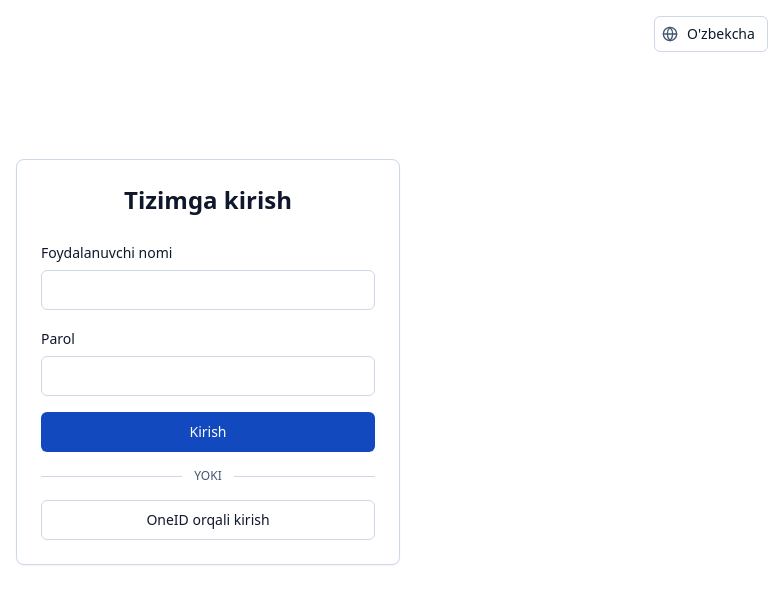
Test: LoginPage › noto'g'ri kirishda xato ko'rsatadi va parol maydonini tozalaydi (Req 1.3)
Type "alice" into the field labelled "Foydalanuvchi nomi".
click(208, 290); type("alice")  # box [41,270,375,310]
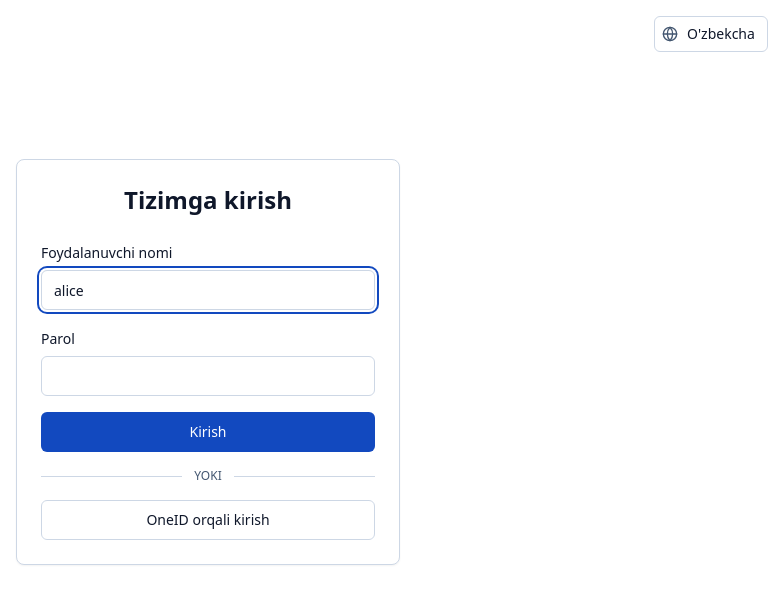
Type "wrong-pass" into the password field labelled "Parol".
click(208, 376); type("wrong-pass")  # box [41,356,375,396]
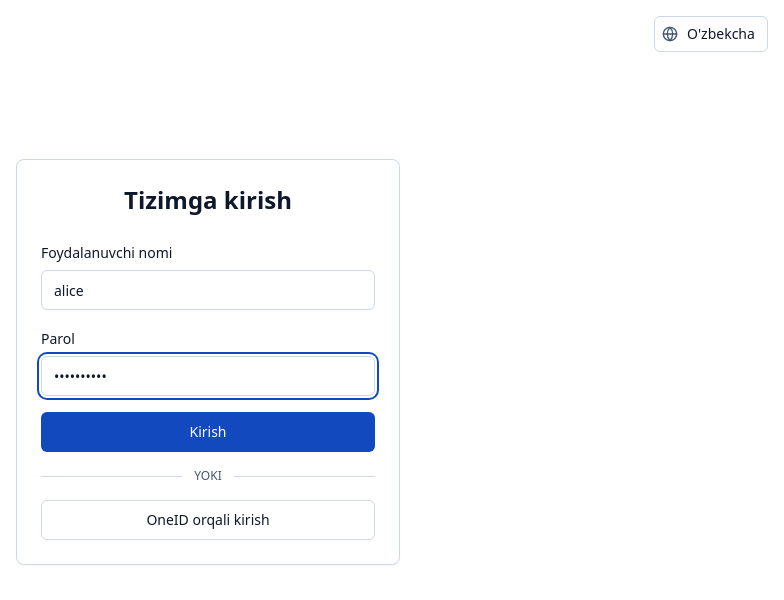
Click the button "Kirish".
click(208, 432)  # box [41,412,375,452]
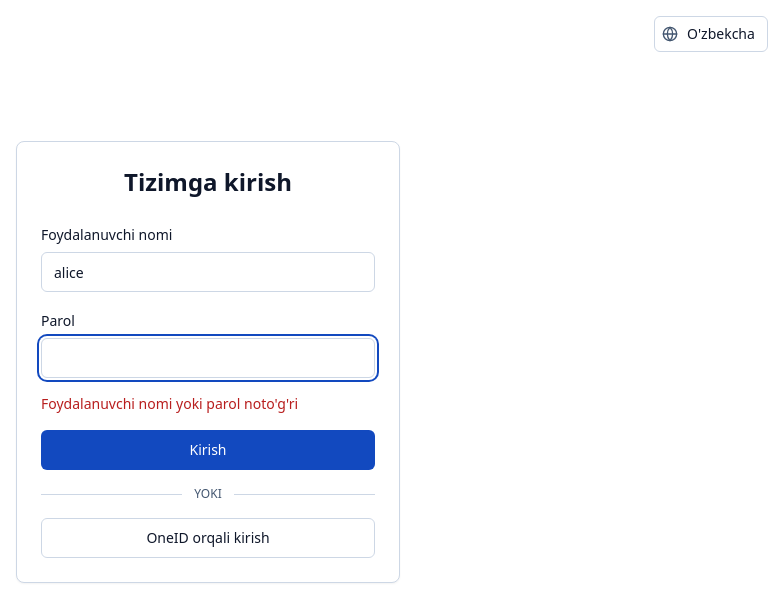
Expected: the text "Foydalanuvchi nomi yoki parol noto'g'ri" is shown, [41,394,298,413]
Expected: the password field labelled "Parol" is empty, [41,338,375,378]
